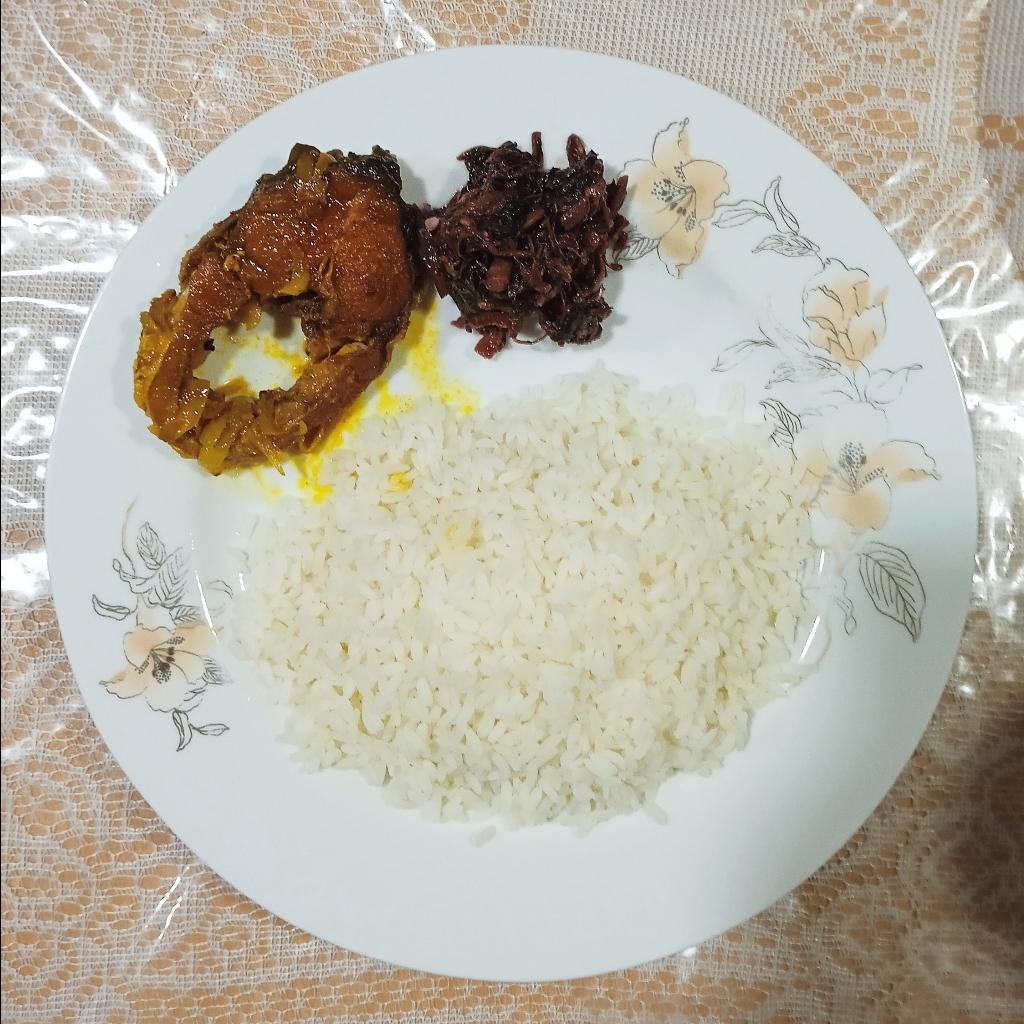fish: (135, 144, 423, 478)
rice: (225, 355, 827, 849)
shak: (417, 131, 631, 360)
